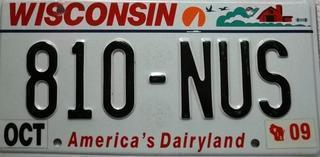placa de veiculo: (2, 2, 312, 157)
